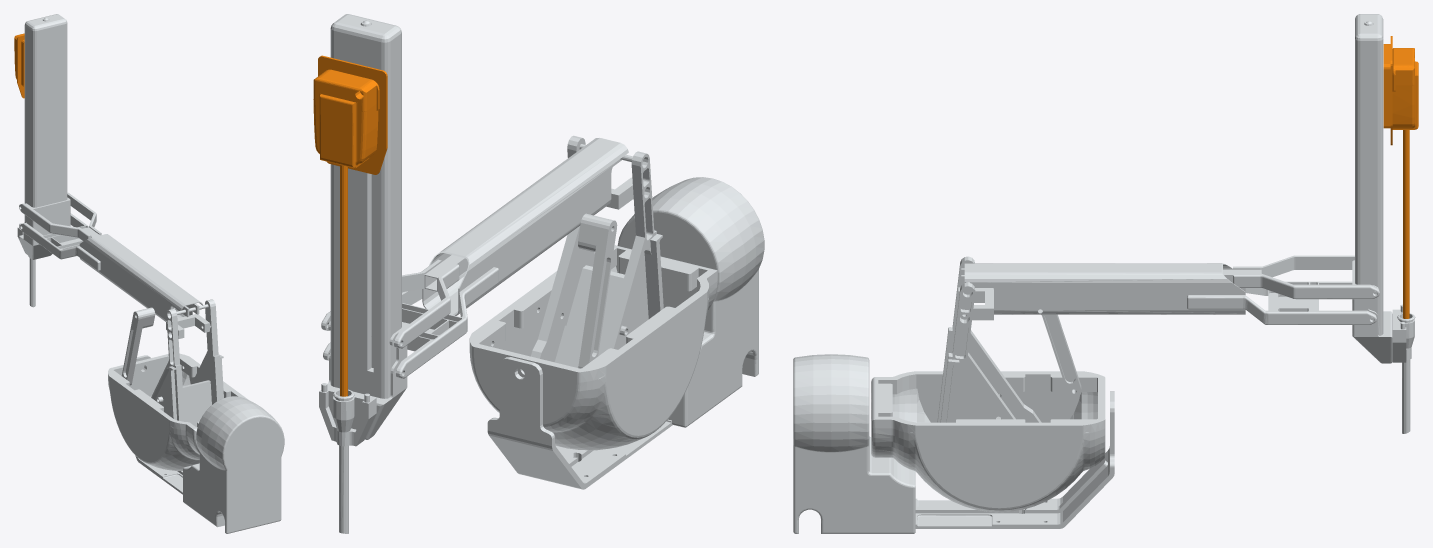
File: psm_corretto.dae
3 renders of one model, left to right at view 1: azimuth 30°, elevation 25°; view 2: azimuth 150°, elevation 25°; view 3: azimuth 270°, elevation 25°, orthographic. The views are drawn at different scales.
Parts seen in each view (by area): view 1: psm_base_link, psm_pitch_end_link, psm_yaw_link, psm_pitch_bottom_link, psm_pitch_back_link, psm_pitch_top_link, psm_pitch_front_link, psm_main_insertion_link; view 2: psm_base_link, psm_pitch_end_link, psm_yaw_link, psm_pitch_bottom_link, psm_pitch_back_link, psm_main_insertion_link, psm_pitch_front_link, psm_pitch_top_link; view 3: psm_yaw_link, psm_base_link, psm_pitch_bottom_link, psm_pitch_end_link, psm_pitch_back_link, psm_main_insertion_link, psm_pitch_top_link, psm_pitch_front_link.
Boxes of the visible parts, box(x1,y1,x2,y2) form: psm_base_link: box(135, 355, 284, 533); psm_pitch_end_link: box(17, 14, 70, 307); psm_yaw_link: box(108, 353, 249, 470); psm_pitch_bottom_link: box(20, 213, 209, 338); psm_pitch_back_link: box(151, 299, 223, 426); psm_pitch_top_link: box(19, 192, 199, 316); psm_pitch_front_link: box(121, 307, 155, 385); psm_main_insertion_link: box(14, 33, 24, 98); psm_base_link: box(487, 177, 764, 489); psm_pitch_end_link: box(319, 14, 407, 533); psm_yaw_link: box(469, 245, 717, 450); psm_pitch_bottom_link: box(323, 138, 633, 378); psm_pitch_back_link: box(531, 135, 663, 367); psm_main_insertion_link: box(313, 55, 387, 396); psm_pitch_front_link: box(578, 213, 617, 368); psm_pitch_top_link: box(321, 159, 621, 348); psm_yaw_link: box(871, 371, 1105, 512); psm_base_link: box(793, 354, 1114, 533); psm_pitch_bottom_link: box(958, 263, 1376, 324); psm_pitch_end_link: box(1352, 14, 1415, 433); psm_pitch_back_link: box(937, 256, 1041, 422); psm_main_insertion_link: box(1383, 36, 1418, 318); psm_pitch_top_link: box(961, 255, 1379, 299); psm_pitch_front_link: box(1041, 314, 1081, 397).
Size of the model in its own units: 0.1625 by 0.7915 by 0.6911.
